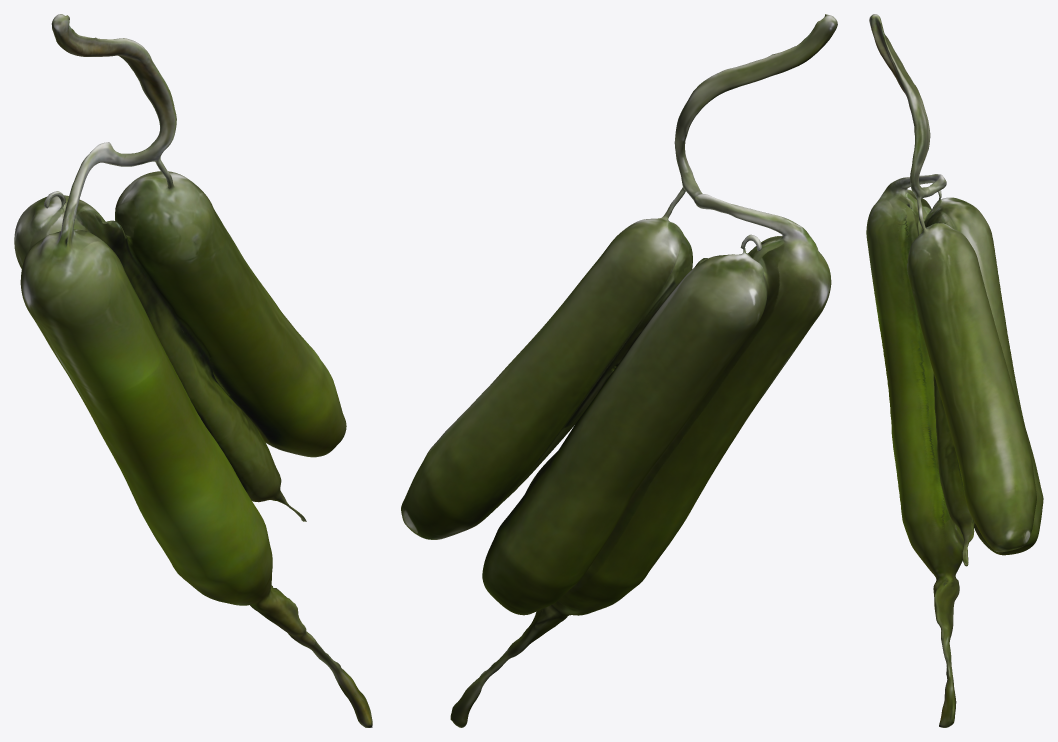
File: Cucumber_Harvest_0929055555.glb
The picture shows the model from 3 angles, left to right: view 1: azimuth 30°, elevation 25°; view 2: azimuth 150°, elevation 25°; view 3: azimuth 270°, elevation 25°; orthographic projection. The views are drawn at different scales.
Size of the model in its own units: 0.9683 by 1.98 by 0.539.
Materials: 1 (1 with a texture image).
